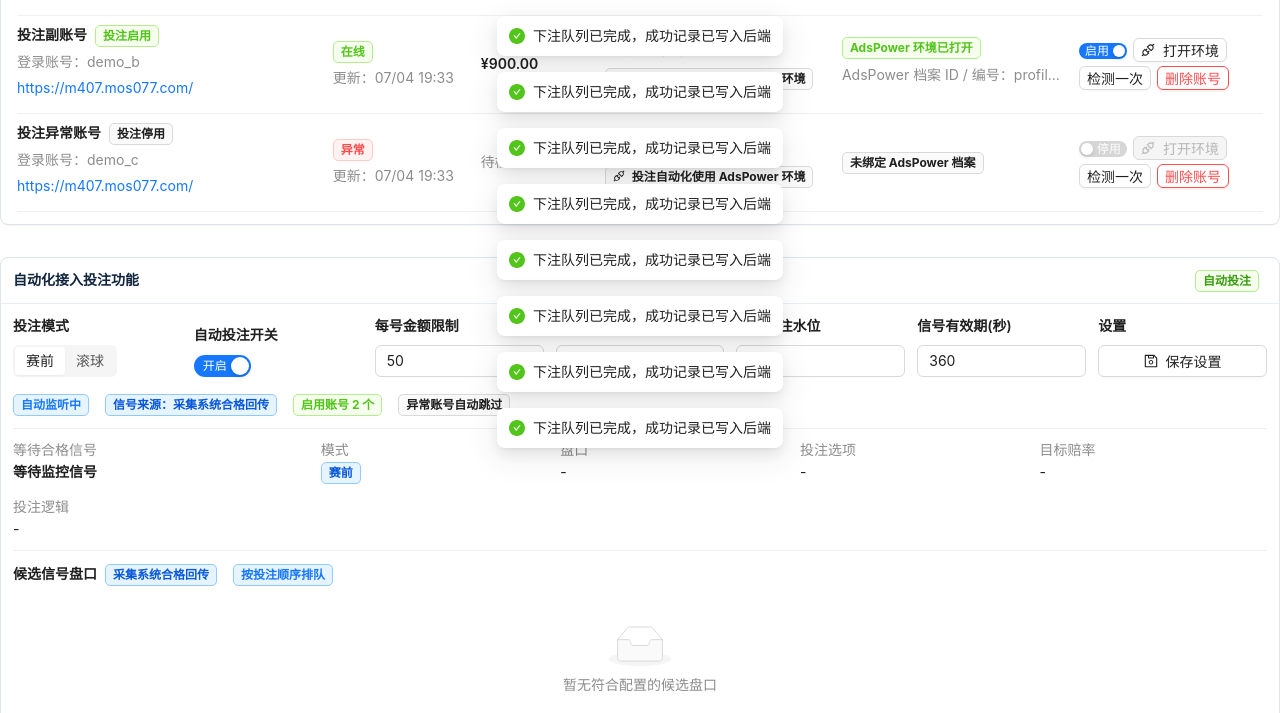
Test case: CrownBetting auto betting execution interaction › runs live checks from the latest crown alert rise
(page scrolled)
Check: the text "自动化接入投注功能" is shown, box [13,271,139,288]
Click the text "滚球" at [90, 360], box [76,352,104,369]
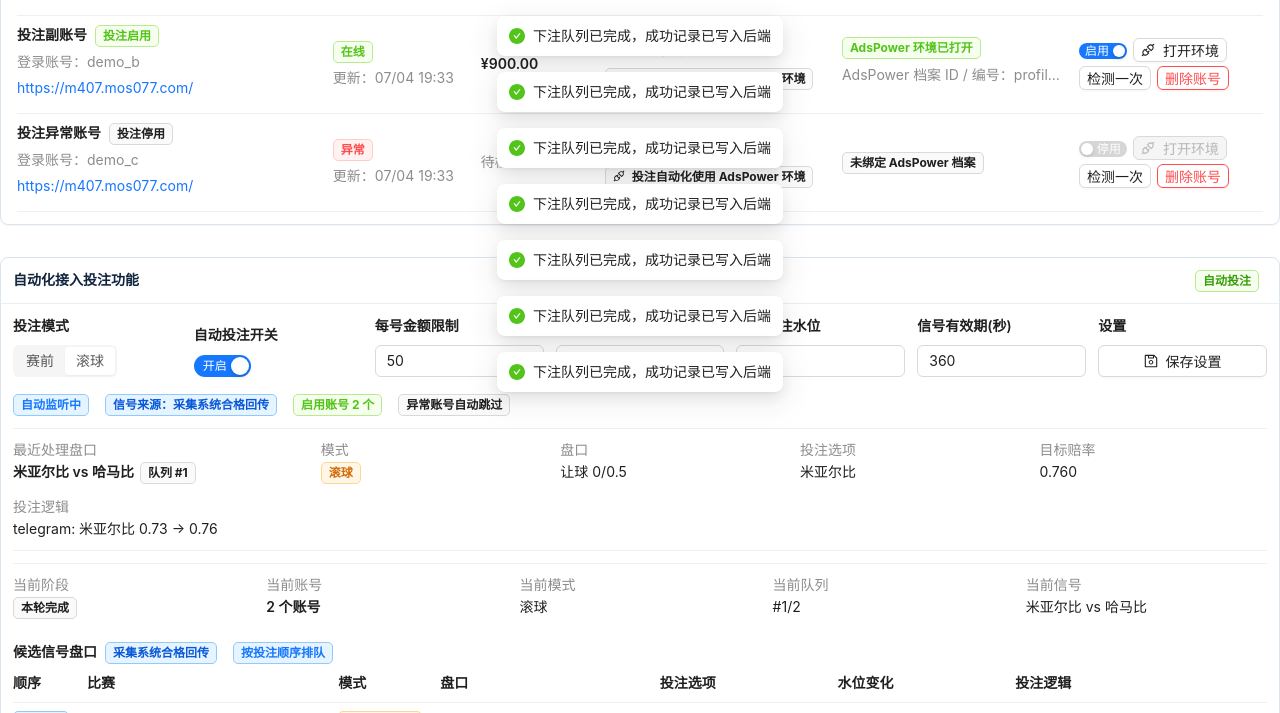
Check: the text "米亚尔比 vs 哈马比" below "最近处理盘口" is shown, box [13,463,134,480]
Check: the text "米亚尔比" below "目标赔率" is shown, box [800,463,856,480]
